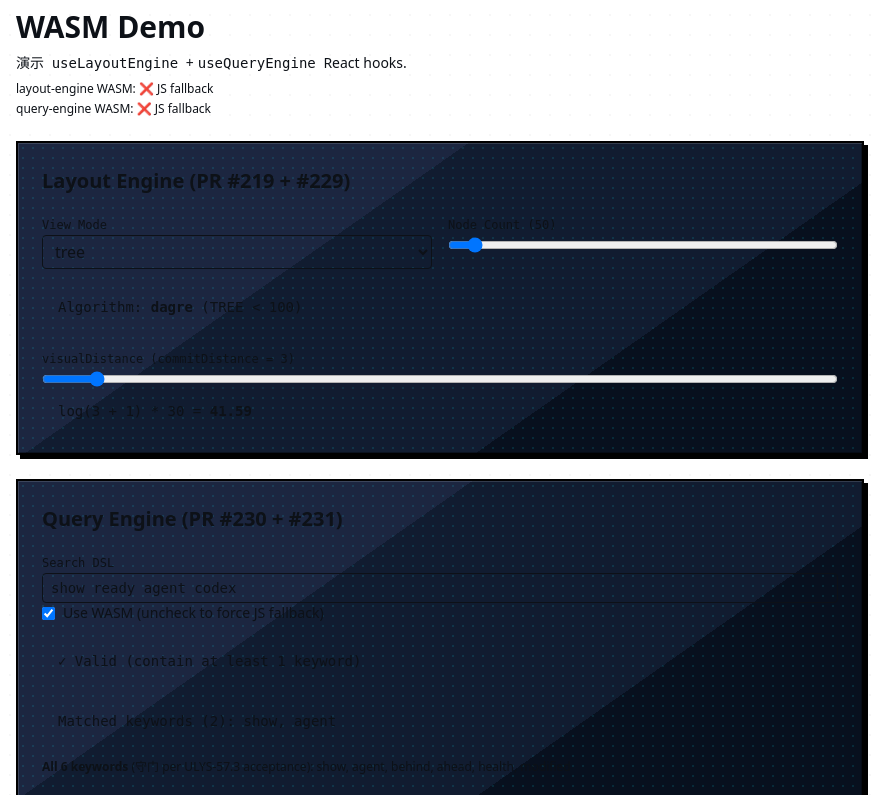
WasmDemoPage › tree + 200 nodes → elk
Set the slider with test id "wasm-demo-node-count" to "200" at (531, 245), box [448,237,838,253]
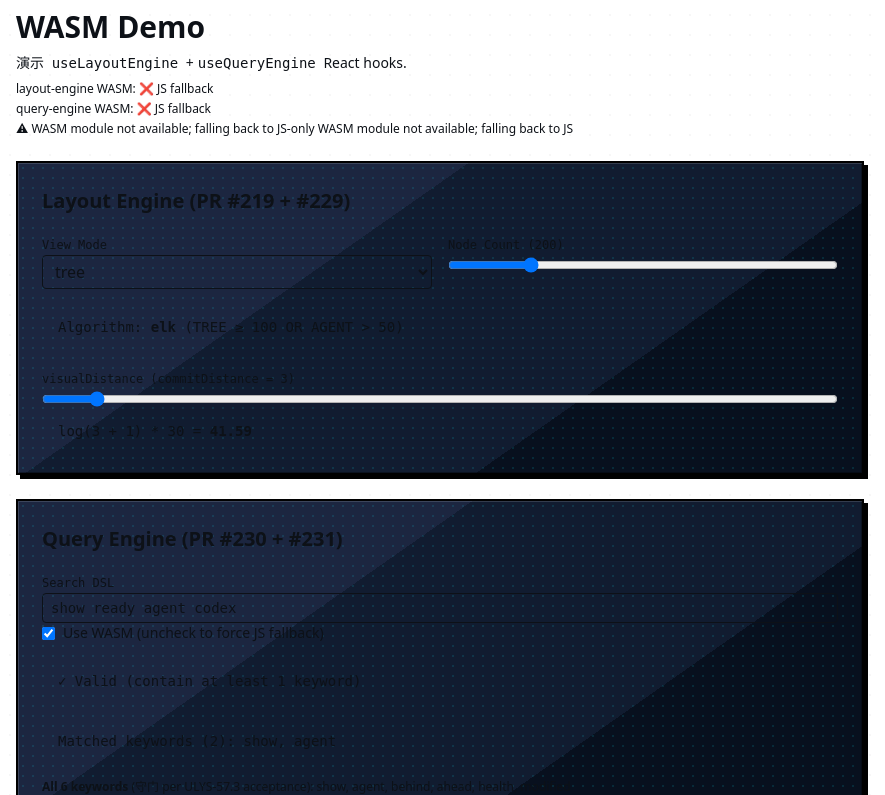
Expected: the element with test id "wasm-demo-layout-result" shows "elk", [151,319,176,335]
